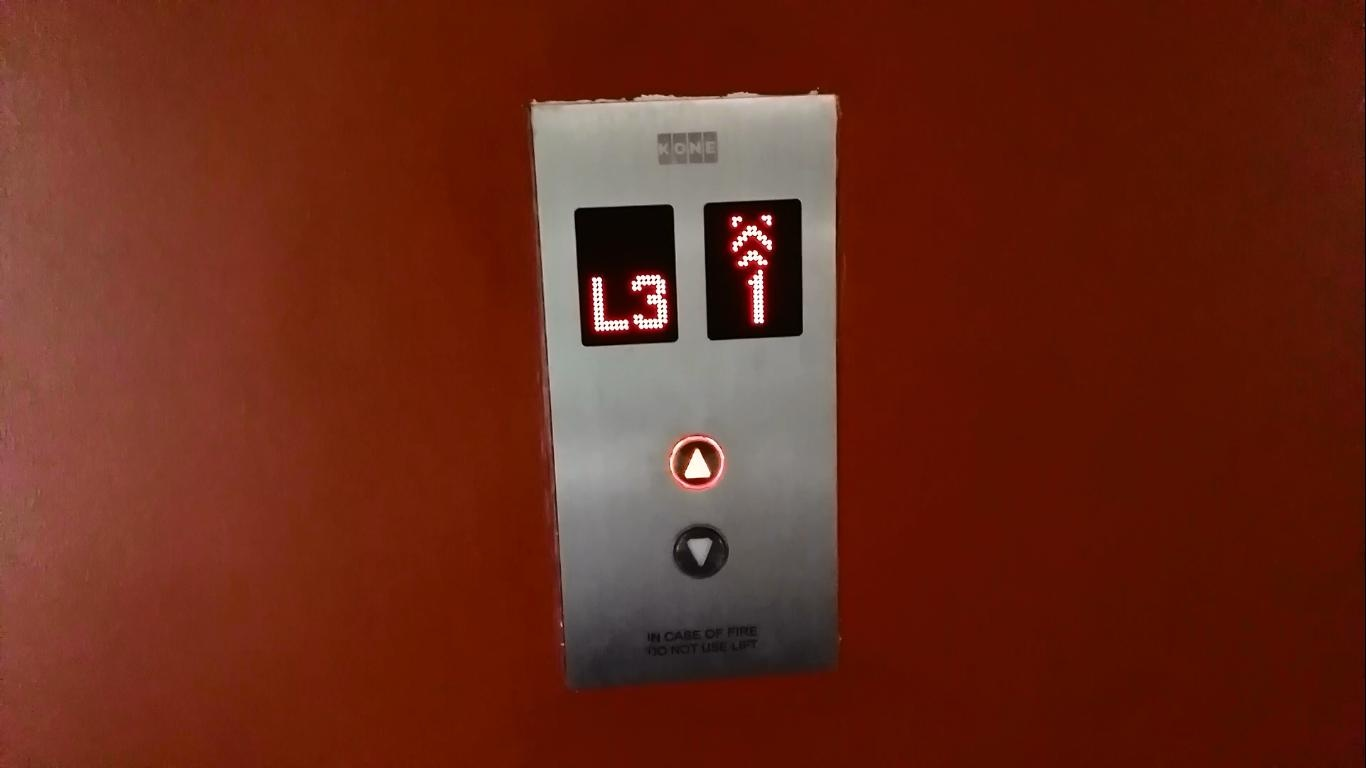down: (668, 521, 734, 583)
led: (570, 201, 684, 352), (698, 196, 808, 347)
up: (666, 433, 726, 495)
